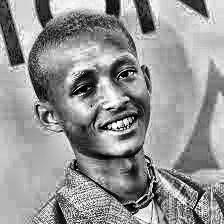happy: (28, 40, 163, 164)
